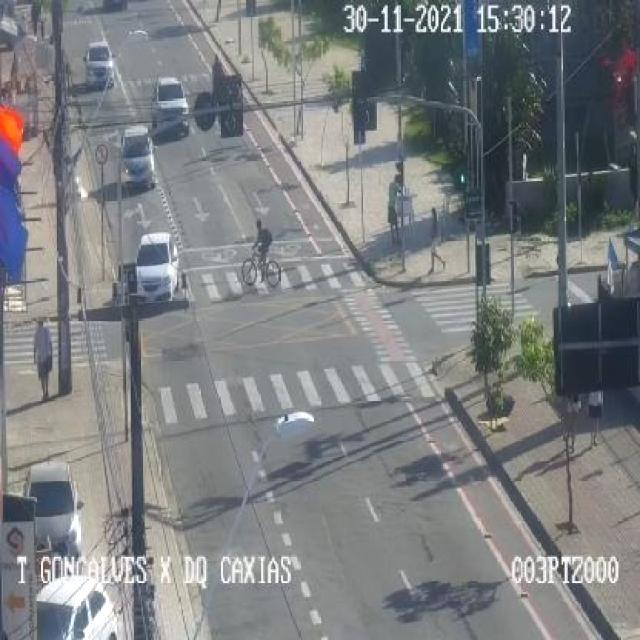Car: (23, 463, 82, 559), (36, 578, 118, 640), (131, 229, 180, 304), (120, 124, 156, 190), (151, 77, 190, 136), (83, 41, 115, 88)
Cycle: (240, 216, 282, 286)
